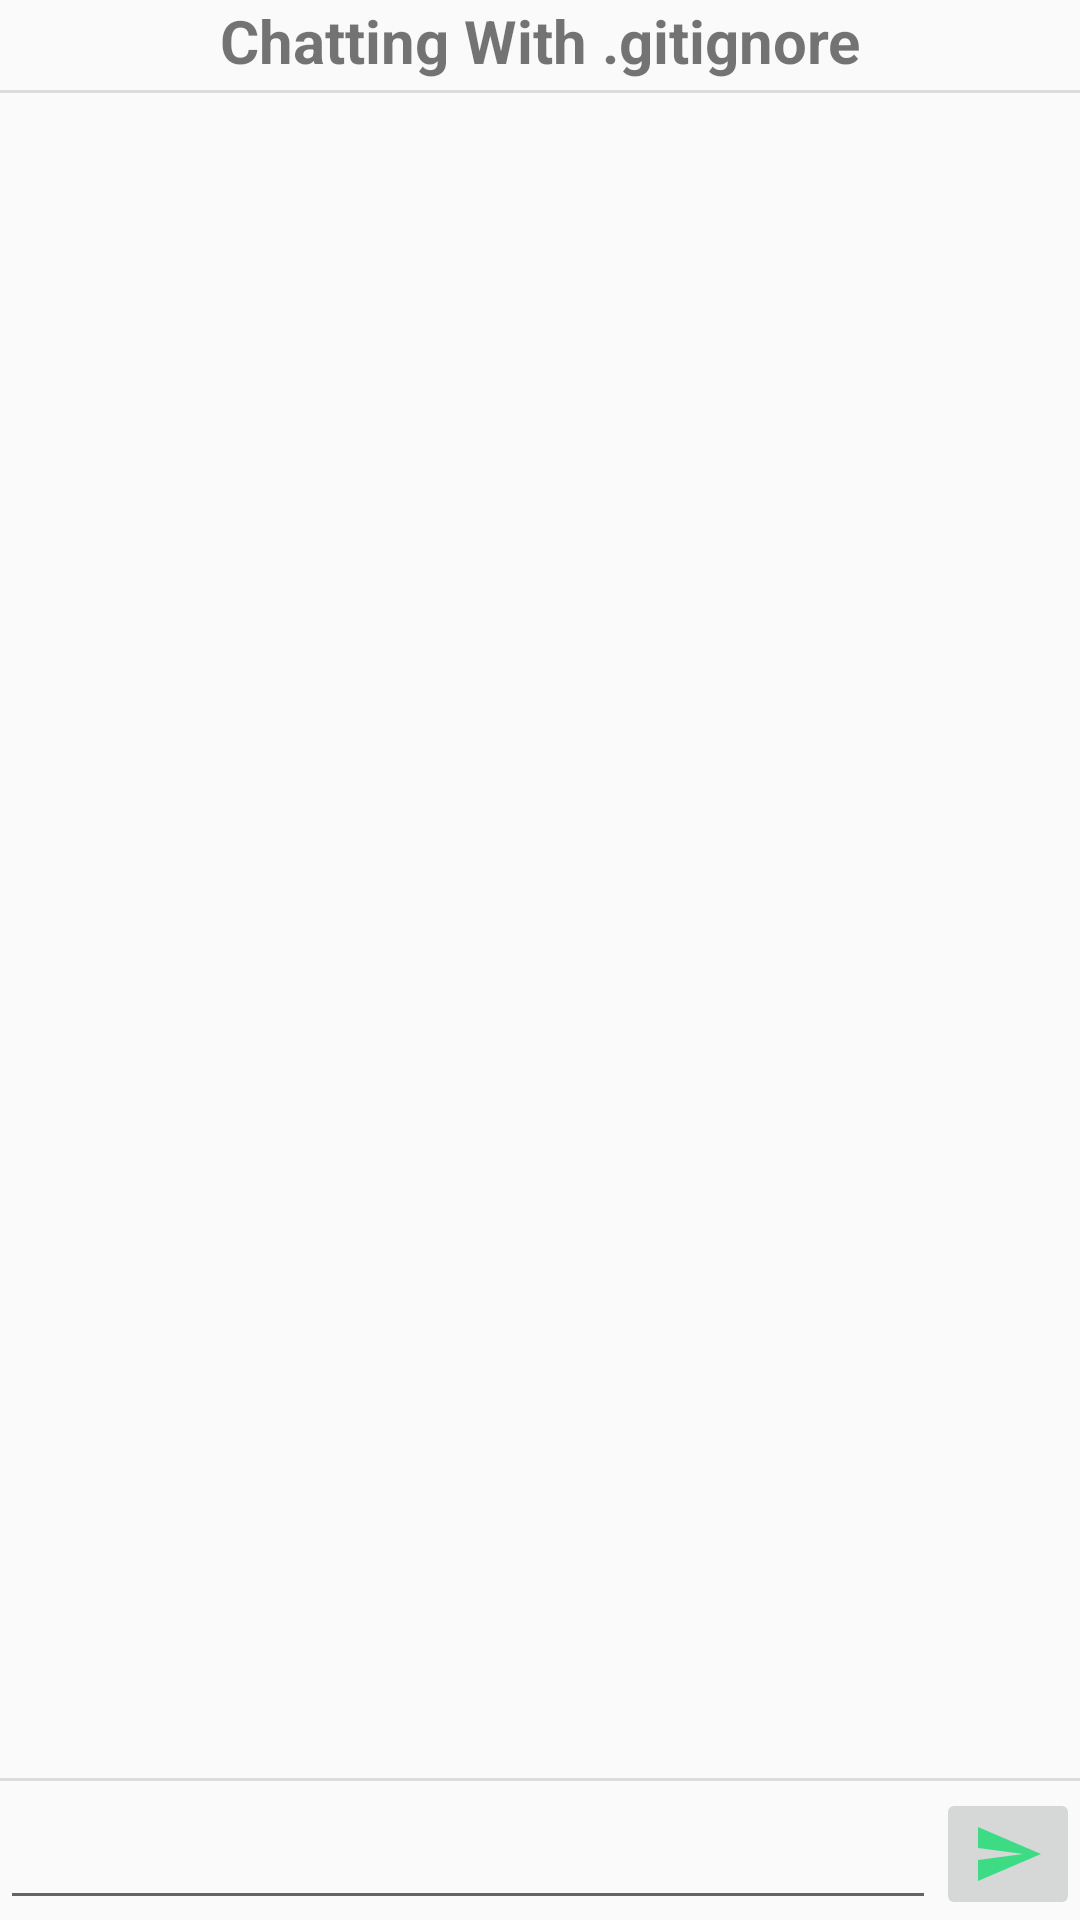

Locate icon controls on the screen. Image size 1080×1920, boxes as [left=x1, top=y1, right=x2, bottom=y2].
send: [left=948, top=1806, right=1068, bottom=1902]
